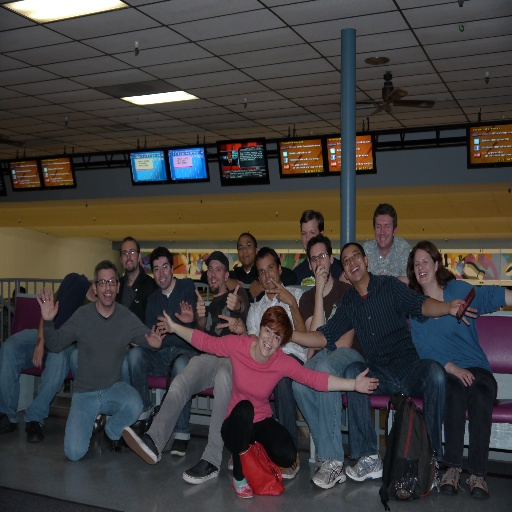hand: (35, 284, 60, 322), (447, 298, 478, 328), (264, 278, 294, 306), (143, 321, 165, 352), (216, 313, 245, 336), (451, 364, 476, 389), (355, 367, 378, 394), (155, 308, 176, 336), (174, 299, 194, 324), (313, 265, 329, 294), (30, 345, 46, 371), (225, 284, 240, 311), (194, 288, 206, 319), (248, 280, 265, 300), (227, 278, 245, 292)
